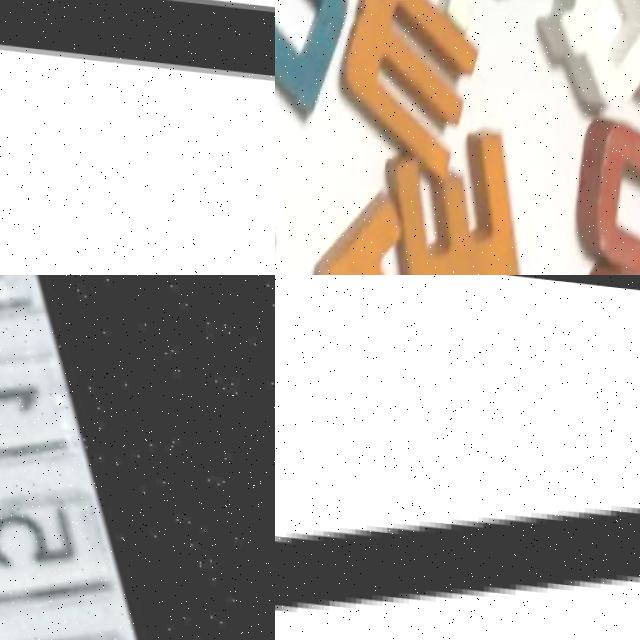1: (0, 348, 66, 449)
5: (0, 481, 100, 592)
D: (275, 0, 340, 110)
E: (385, 119, 516, 275)
I: (275, 494, 640, 610), (0, 0, 275, 90), (312, 175, 445, 275)
Q: (543, 0, 640, 108)
U: (573, 116, 640, 275)
W: (345, 0, 475, 174)
